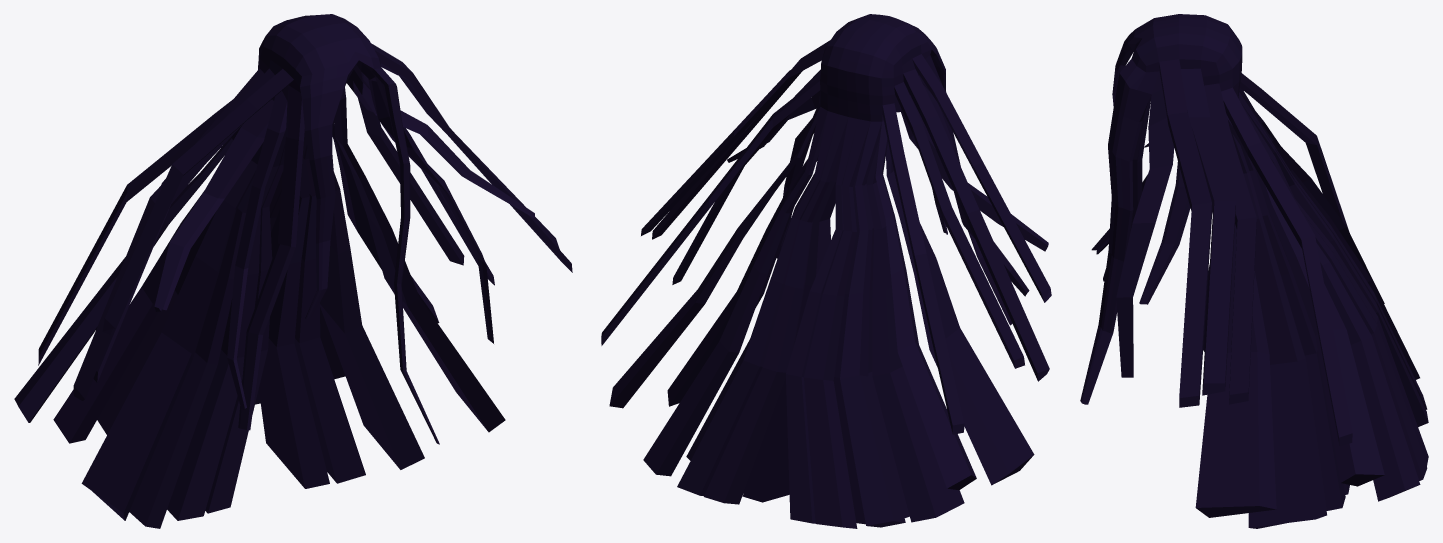
Rendered from DegolificadaCabelo.fbx.
The picture shows the model from 3 angles, left to right: view 1: azimuth 30°, elevation 25°; view 2: azimuth 150°, elevation 25°; view 3: azimuth 270°, elevation 25°; orthographic projection. The views are drawn at different scales.
Visible parts, largest first — view 1: Cabelo; view 2: Cabelo; view 3: Cabelo.
Boxes of the visible parts, <box> form: Cabelo: <box>14,14,572,528</box>; Cabelo: <box>601,14,1051,528</box>; Cabelo: <box>1080,14,1428,528</box>.
Bounding box in the file's own units: 1.49 × 1.56 × 1.07.
